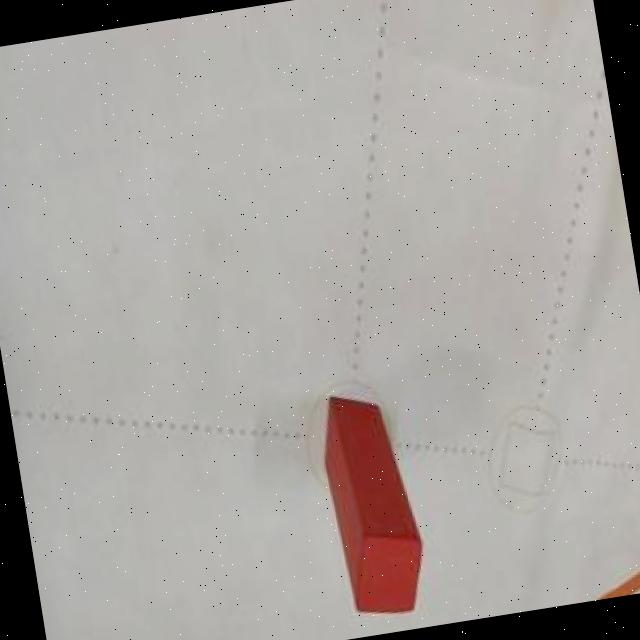redbox: (311, 384, 436, 625)
